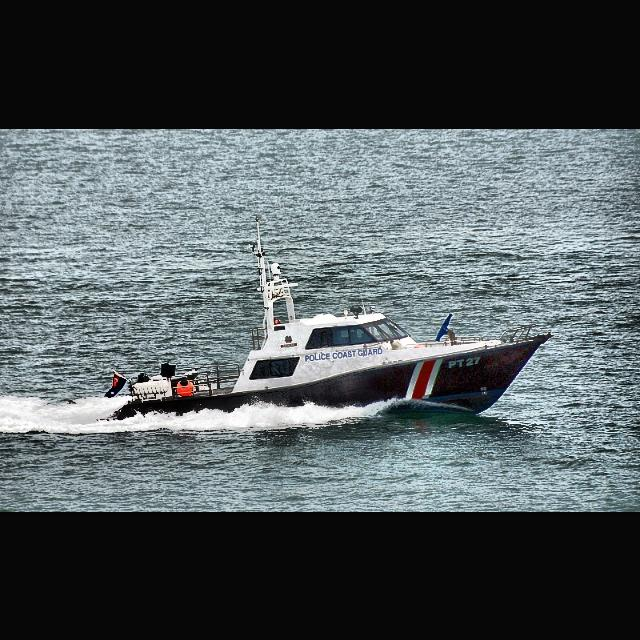patrol_vessel: (103, 213, 554, 425)
